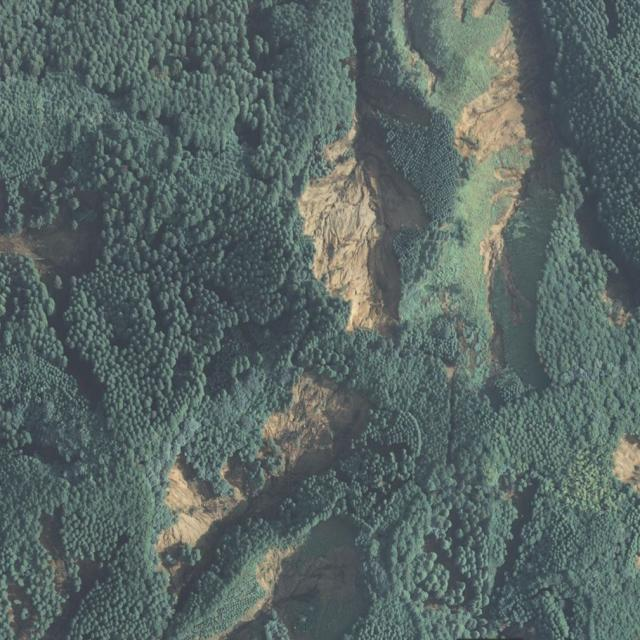landslide: (159, 373, 370, 552), (299, 102, 429, 333), (455, 22, 527, 163)
